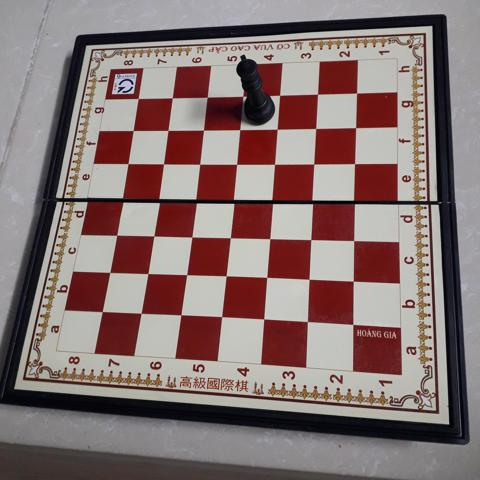xcorner: (258, 312, 273, 327), (347, 316, 362, 331), (146, 227, 161, 242), (184, 228, 199, 243), (227, 191, 242, 206), (269, 155, 284, 170), (274, 87, 289, 102), (96, 304, 110, 319), (135, 306, 149, 321), (302, 314, 316, 329), (180, 267, 194, 282), (220, 268, 234, 283), (261, 270, 276, 284), (304, 271, 318, 286), (264, 230, 279, 244), (349, 231, 363, 246), (115, 191, 130, 205), (307, 192, 322, 206), (349, 192, 364, 206), (121, 156, 135, 171), (193, 156, 208, 170), (231, 155, 245, 170), (127, 123, 141, 138), (197, 122, 212, 136), (234, 121, 248, 136), (272, 120, 286, 135), (350, 119, 365, 133), (166, 91, 181, 105), (201, 90, 216, 104), (237, 89, 252, 103), (312, 86, 326, 101), (175, 308, 189, 322), (216, 310, 230, 324), (103, 265, 117, 279), (141, 266, 155, 280), (348, 273, 362, 287), (109, 227, 123, 241), (224, 229, 238, 243), (306, 231, 320, 245), (152, 191, 166, 205), (189, 191, 203, 205), (267, 192, 281, 206), (157, 156, 171, 170), (309, 155, 323, 169), (350, 155, 364, 169), (162, 123, 176, 137), (311, 120, 325, 134), (132, 92, 146, 106), (351, 85, 365, 99)
